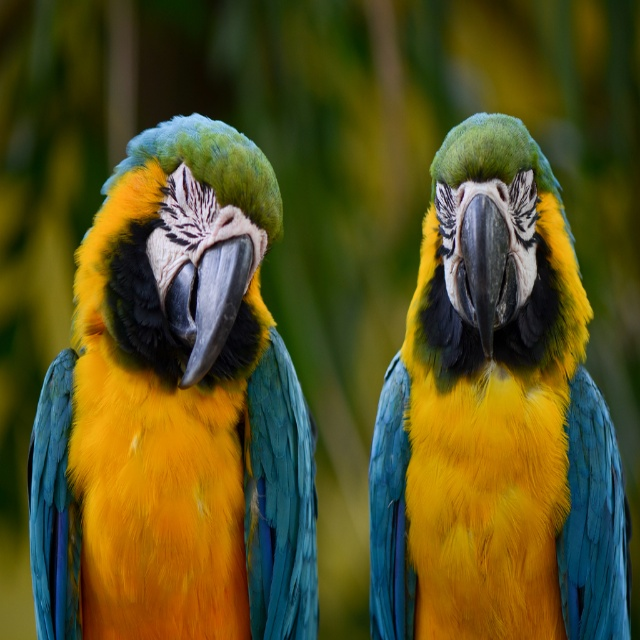Parrot: (26, 110, 320, 639), (370, 111, 632, 639)
